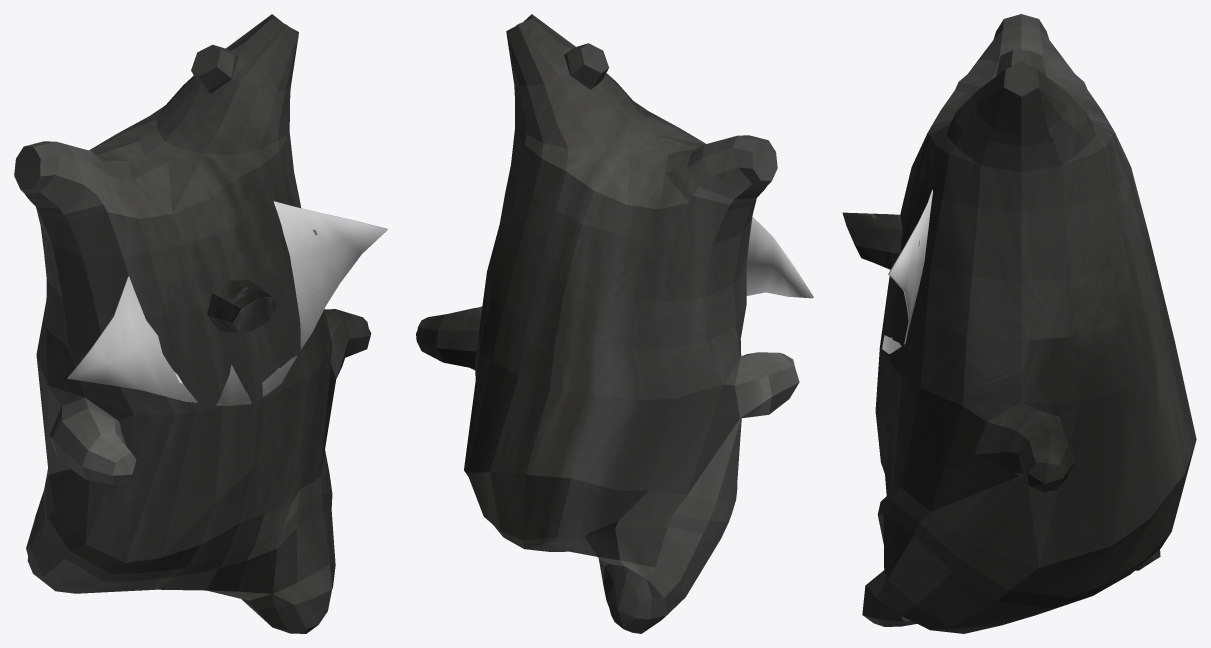
Rendered from frame_0004.obj.
The picture shows the model from 3 angles, left to right: view 1: azimuth 30°, elevation 25°; view 2: azimuth 150°, elevation 25°; view 3: azimuth 270°, elevation 25°; orthographic projection. The views are drawn at different scales.
Visible parts, largest first — view 1: korok, leaf, nose; view 2: korok, leaf; view 3: korok, nose, leaf.
Part boxes in pixels (bbox=[...]): korok: bbox=[14, 14, 371, 633]; leaf: bbox=[67, 201, 387, 405]; nose: bbox=[207, 279, 276, 332]; korok: bbox=[416, 14, 799, 633]; leaf: bbox=[746, 216, 813, 298]; korok: bbox=[862, 14, 1196, 633]; nose: bbox=[842, 212, 902, 269]; leaf: bbox=[882, 189, 932, 353].
Bounding box in the file's own units: 1.56 × 2.31 × 1.26.
